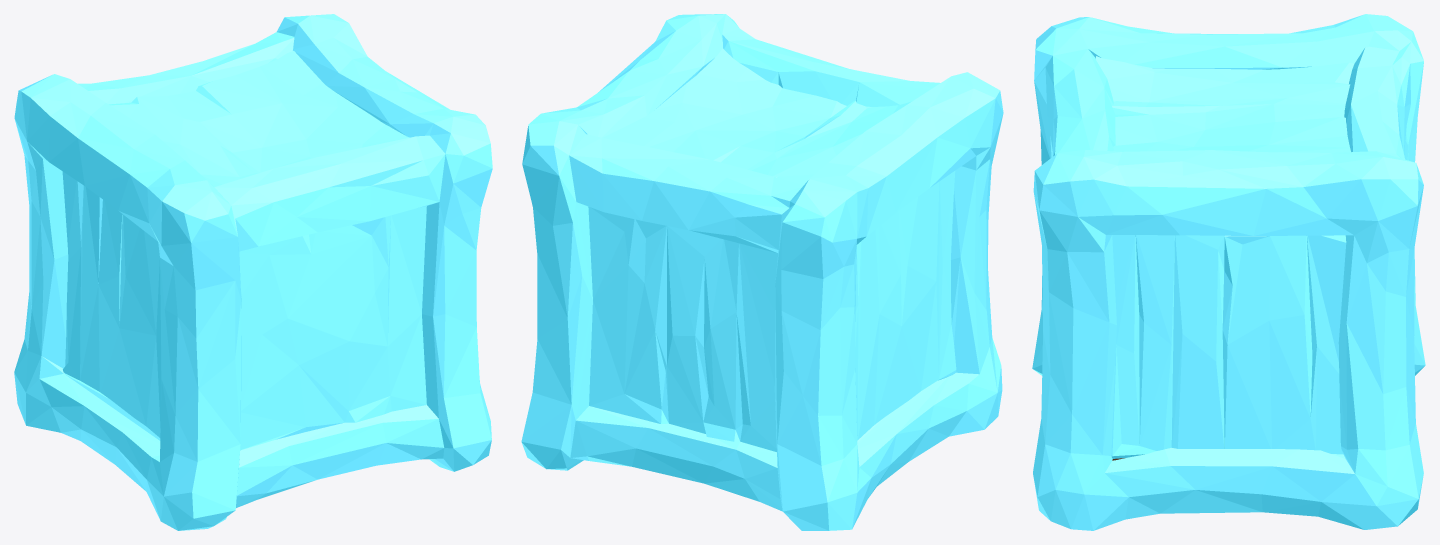
The model's file is ForceFieldCrate.fbx.
The picture shows the model from 3 angles, left to right: view 1: azimuth 30°, elevation 25°; view 2: azimuth 150°, elevation 25°; view 3: azimuth 270°, elevation 25°; orthographic projection. The views are drawn at different scales.
Visible parts, largest first — view 1: Group3770; view 2: Group3770; view 3: Group3770.
Boxes of the visible parts, <box> form: Group3770: <box>14,14,492,530</box>; Group3770: <box>521,14,1003,530</box>; Group3770: <box>1032,14,1425,530</box>.
Bounding box in the file's own units: 2.28 × 2.34 × 2.26.
Materials: 2 (1 with a texture image).
